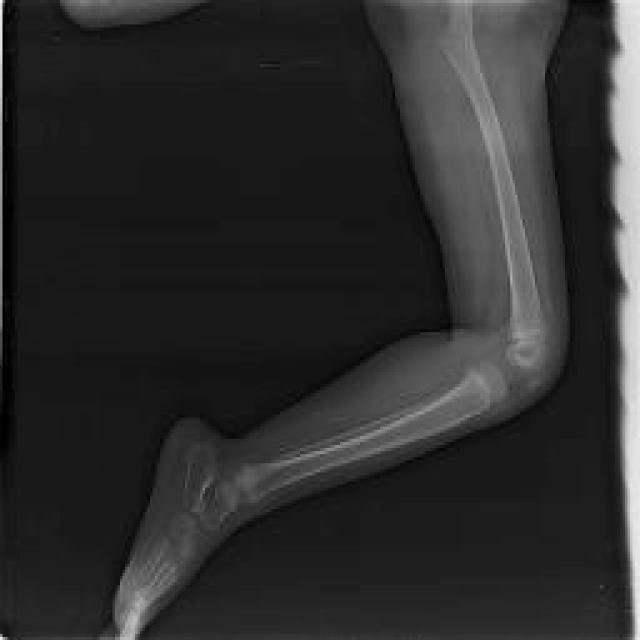normal: (117, 366, 510, 636), (444, 5, 542, 368)
